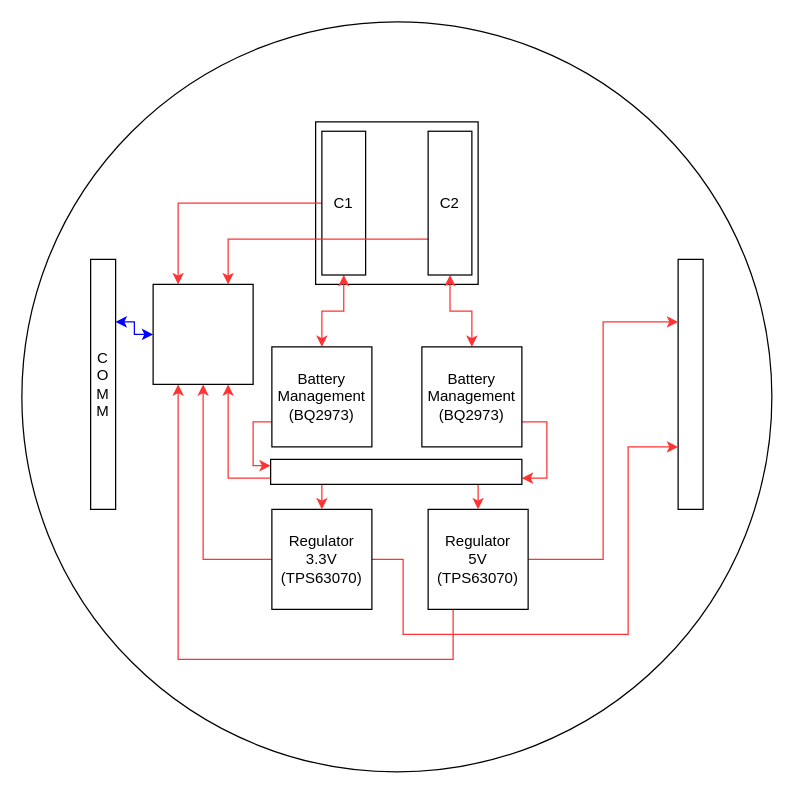
Some shapes in this 794 by 794 pixel diagram are drawn without their labels. Each missing label, with the box of its shape:
Battery: (314, 121, 478, 284)
BUS: (269, 458, 522, 484)
P O W E R: (677, 258, 703, 509)
Voltage Monitor (LTC2991): (152, 283, 253, 384)
